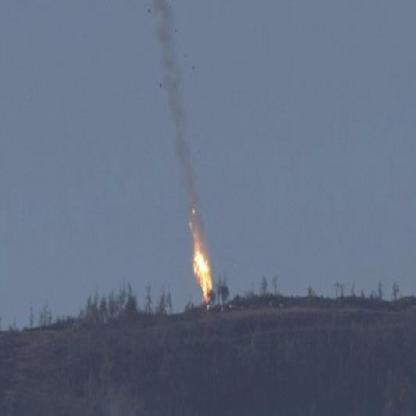fire: (187, 236, 212, 304)
smoke: (161, 63, 184, 153), (183, 162, 201, 226), (157, 14, 170, 51)
